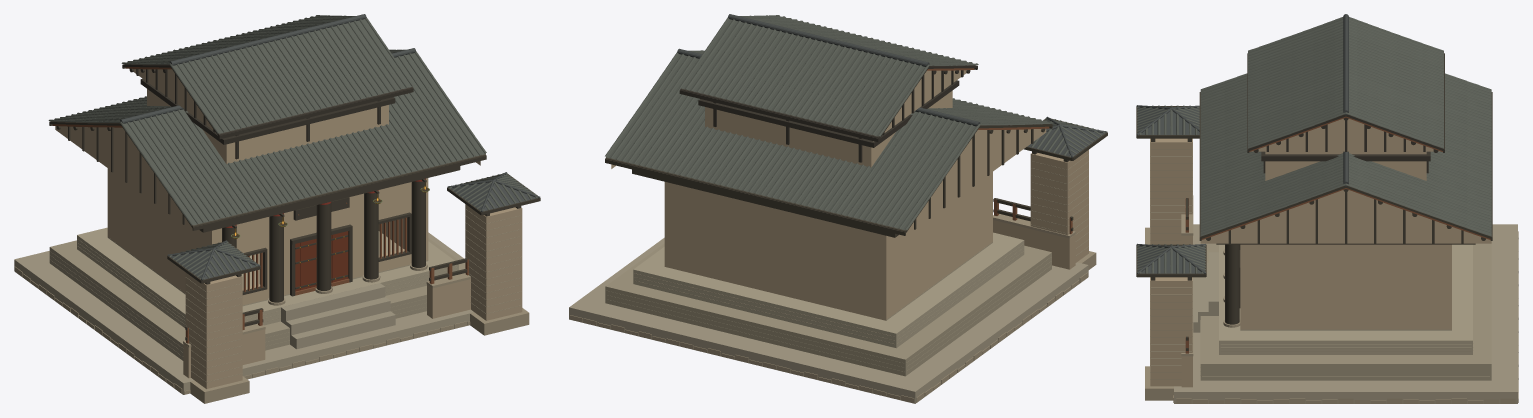
The model's file is hall.glb.
3 renders of one model, left to right at view 1: azimuth 30°, elevation 25°; view 2: azimuth 150°, elevation 25°; view 3: azimuth 270°, elevation 25°, orthographic. The views are drawn at different scales.
Parts seen in each view (by area): view 1: hall; view 2: hall; view 3: hall.
Part boxes in pixels (x1,y1,x2,y2): hall: [14, 14, 540, 403]; hall: [569, 14, 1107, 403]; hall: [1136, 14, 1518, 403].
Size of the model in its own units: 19 by 13.57 by 18.24.
